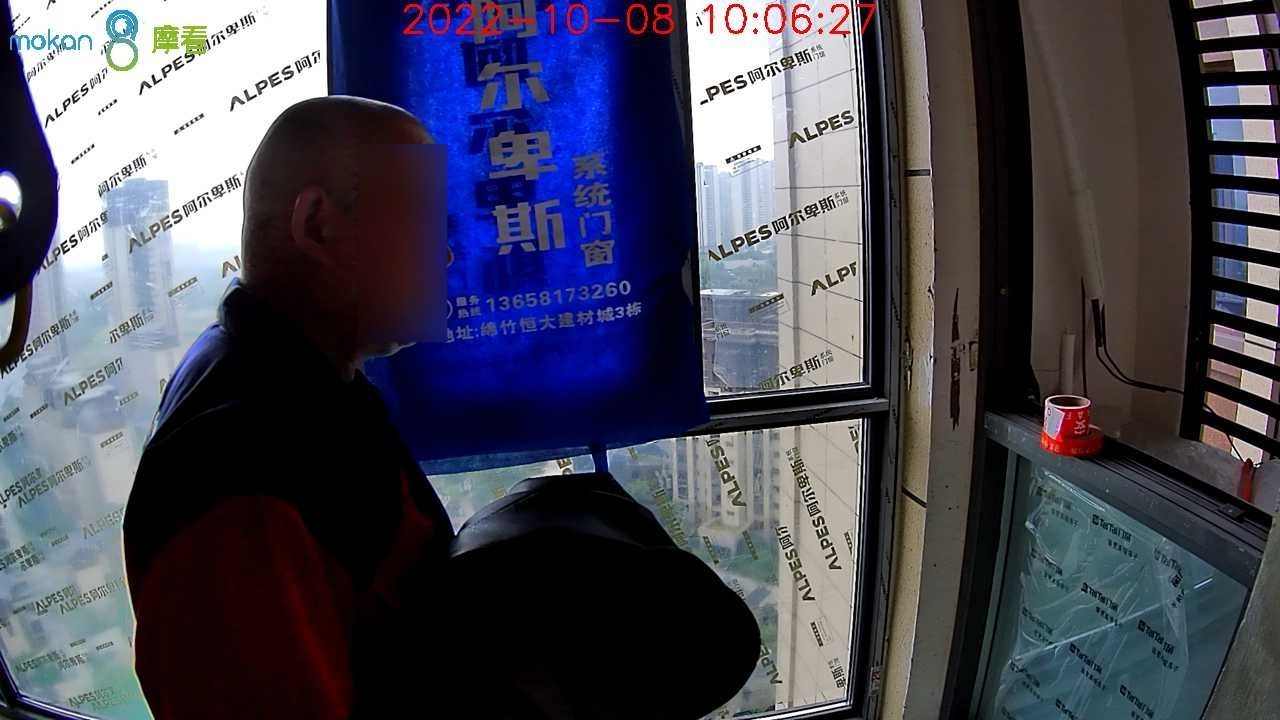people: (126, 92, 454, 720)
window: (1, 1, 877, 720)
